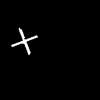single_crochet: (12, 28, 36, 53)
